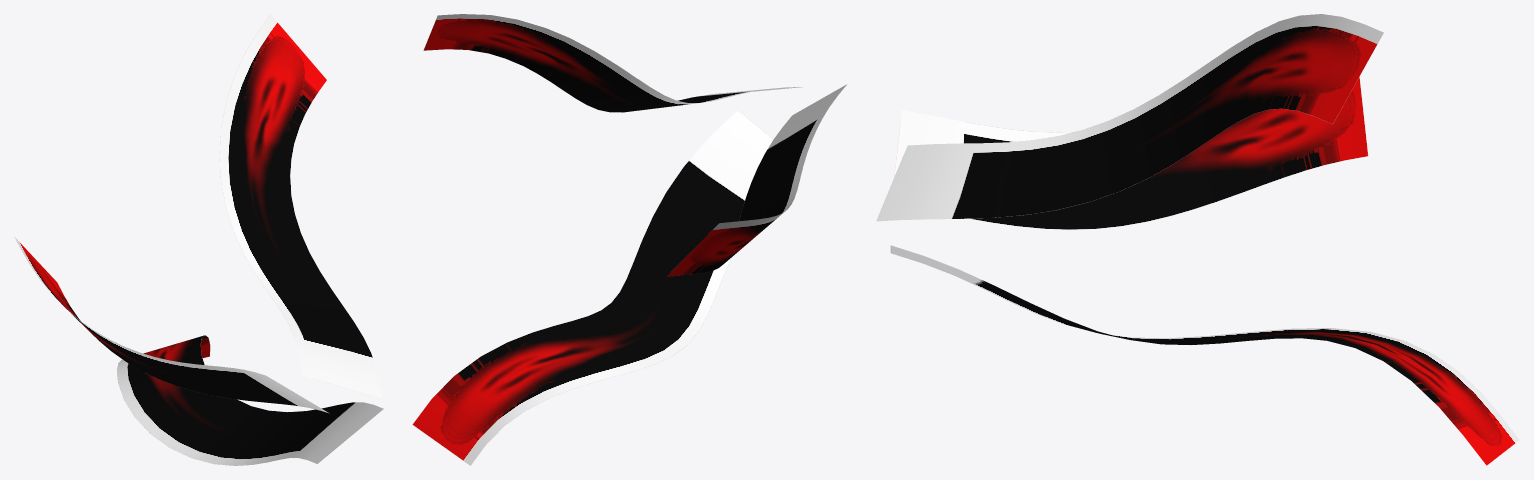
The model's file is yaowu_2.FBX.
3 renders of one model, left to right at view 1: azimuth 30°, elevation 25°; view 2: azimuth 150°, elevation 25°; view 3: azimuth 270°, elevation 25°, orthographic. The views are drawn at different scales.
Visible parts, largest first — view 1: yaowu_2; view 2: yaowu_2; view 3: yaowu_2.
Boxes of the visible parts, <box> form: yaowu_2: <box>14,14,383,465</box>; yaowu_2: <box>412,14,846,465</box>; yaowu_2: <box>876,14,1519,465</box>.
Bounding box in the file's own units: 162 × 192 × 243.
